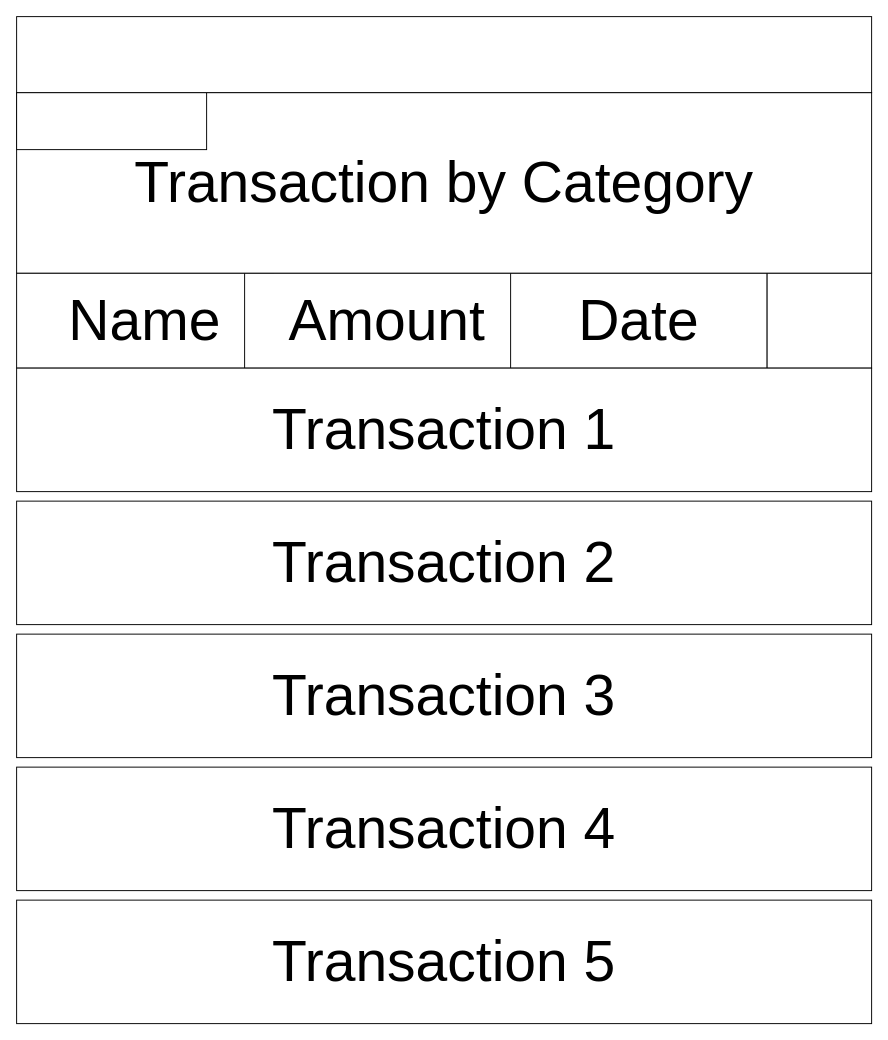
Some shapes in this 888 by 1040 pixel diagram are drawn without their labels. The shapes that lost their labels are listed below. From the top down, each one's centre as x and y in pixels, then its label:
pixel 444 54: Logo
pixel 111 121: return
pixel 819 320: Edit
